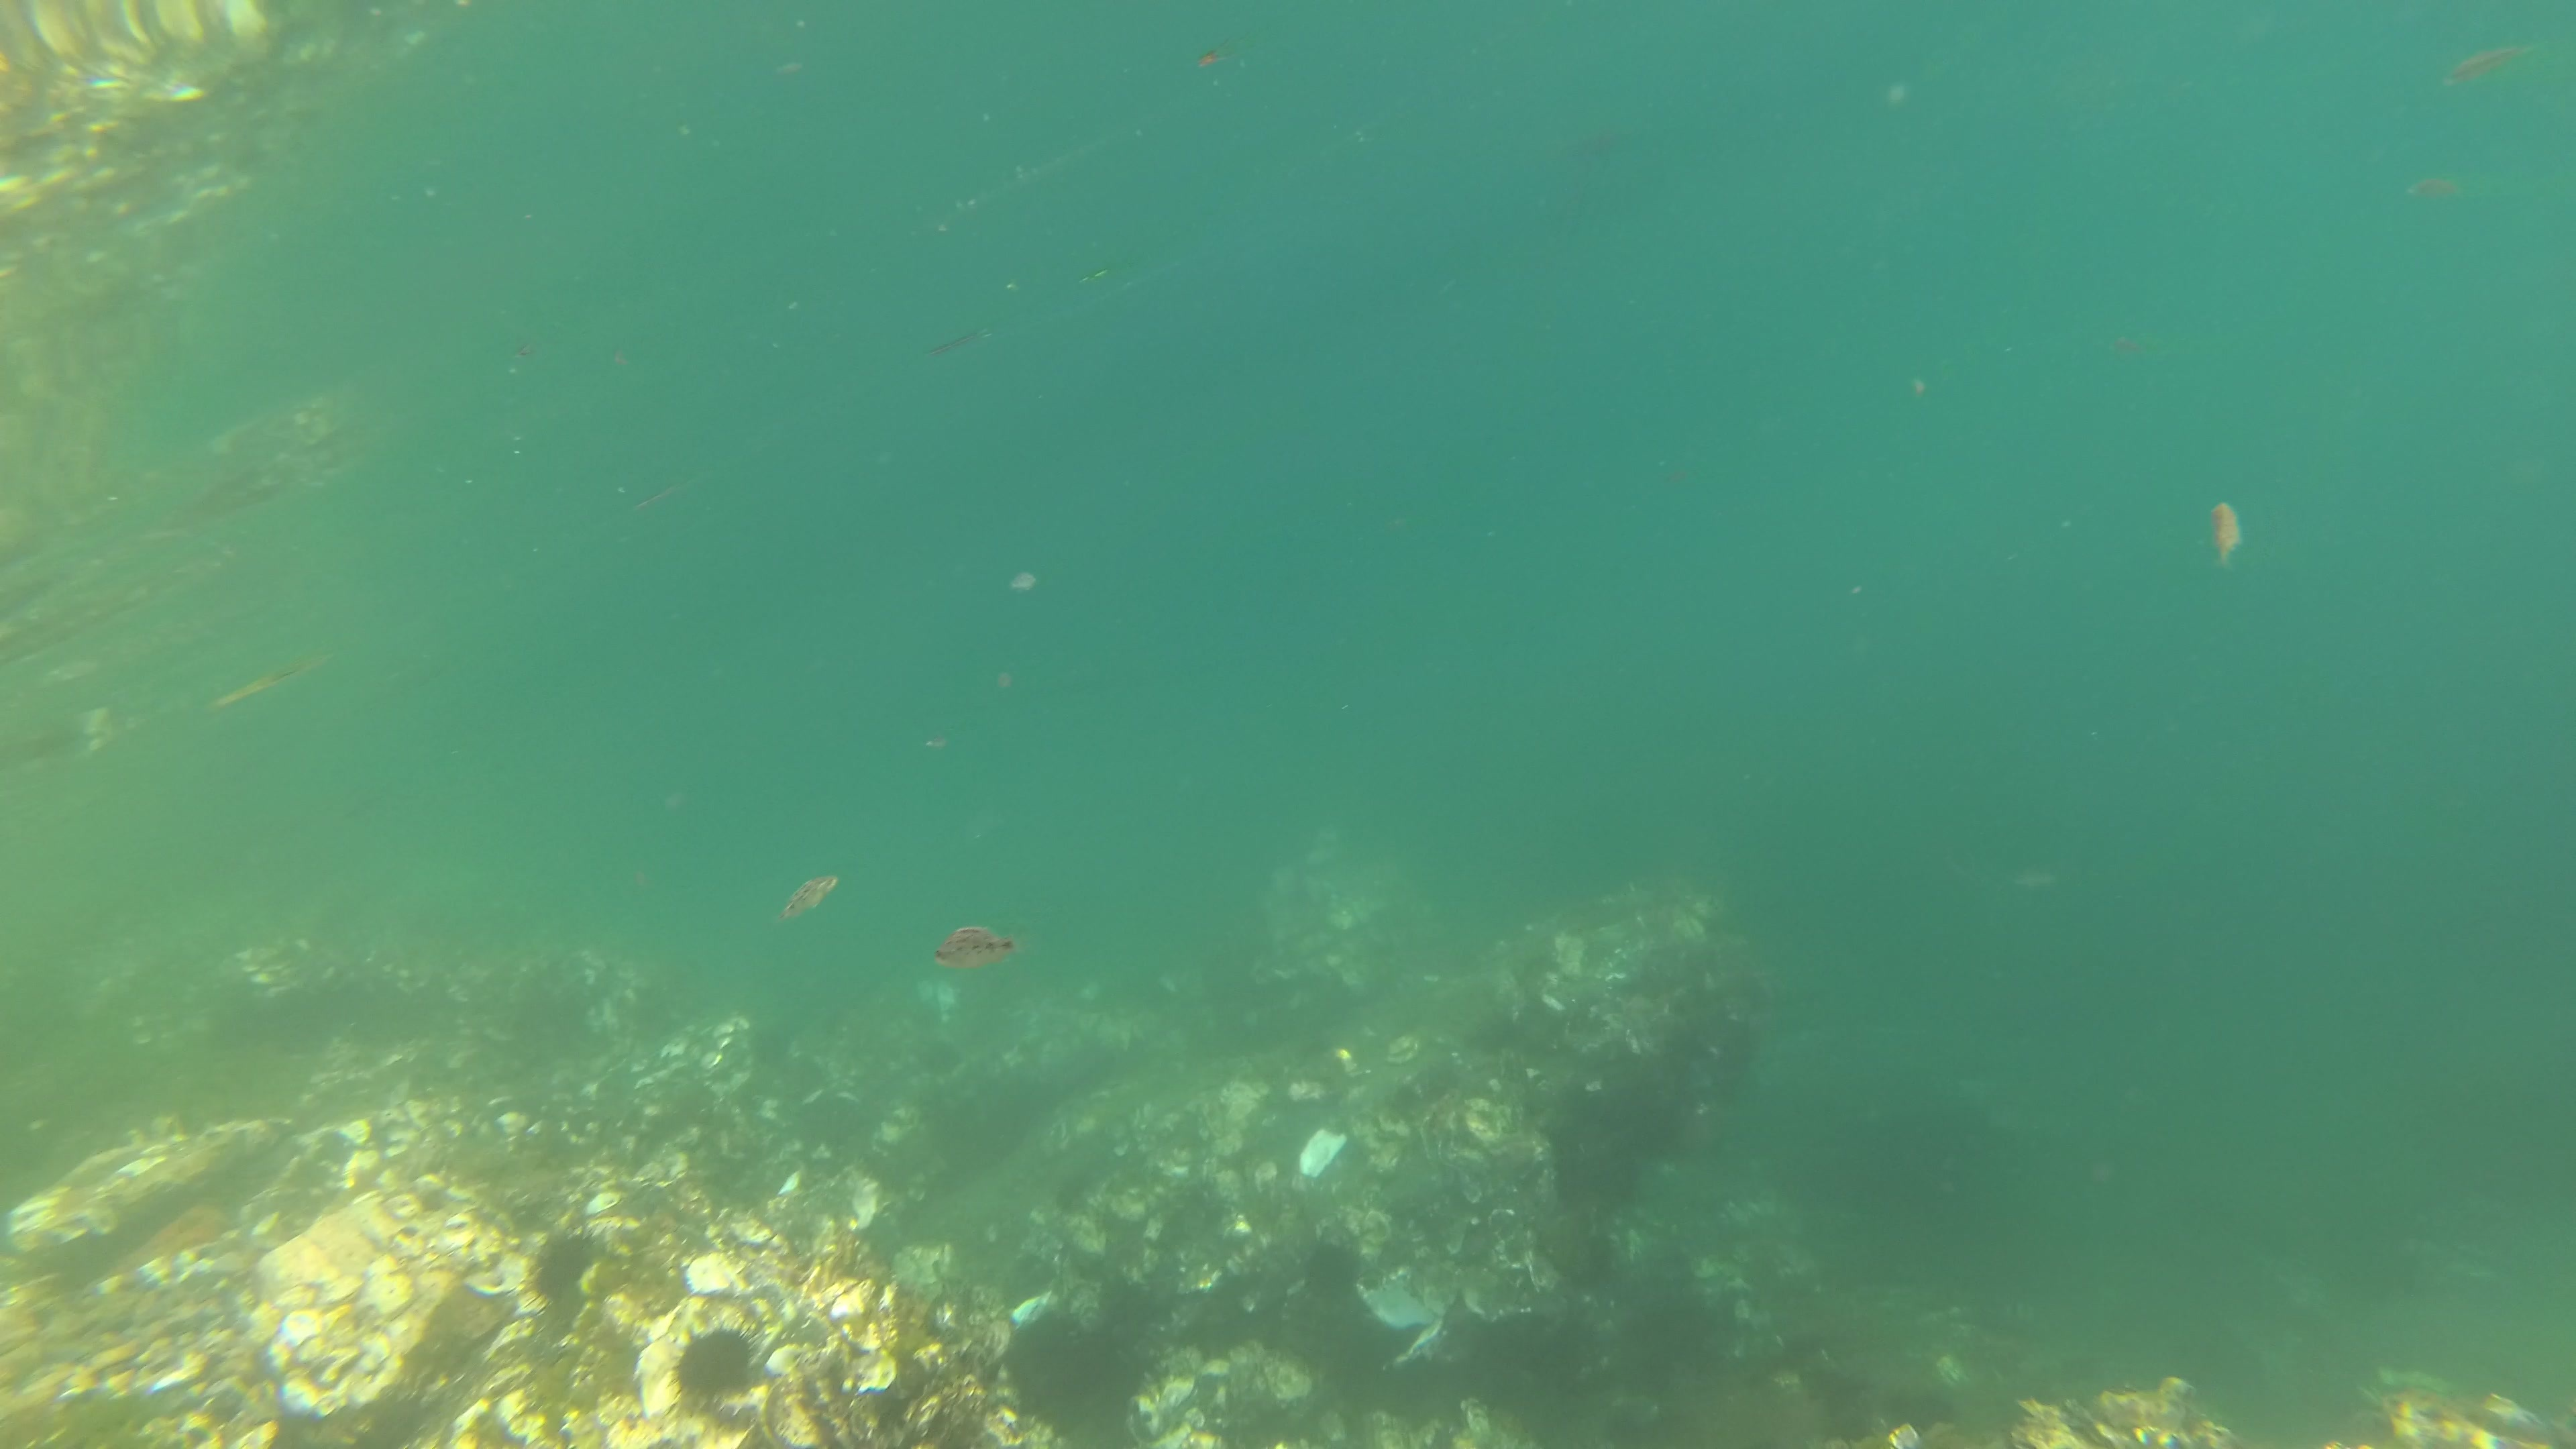echinus: (1023, 1315, 1131, 1422), (1279, 1233, 1373, 1318), (681, 1320, 757, 1407), (527, 1226, 602, 1302)
